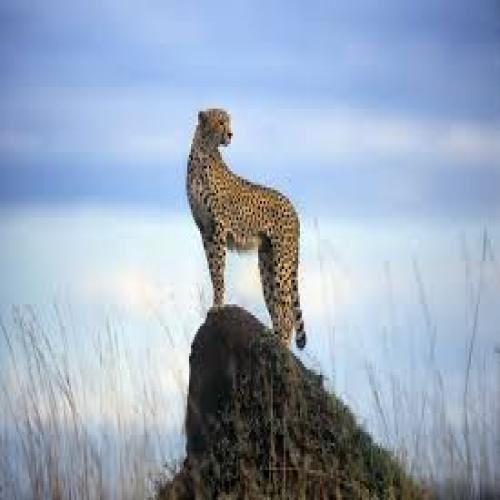cheetah-endangered: (188, 111, 304, 348)
